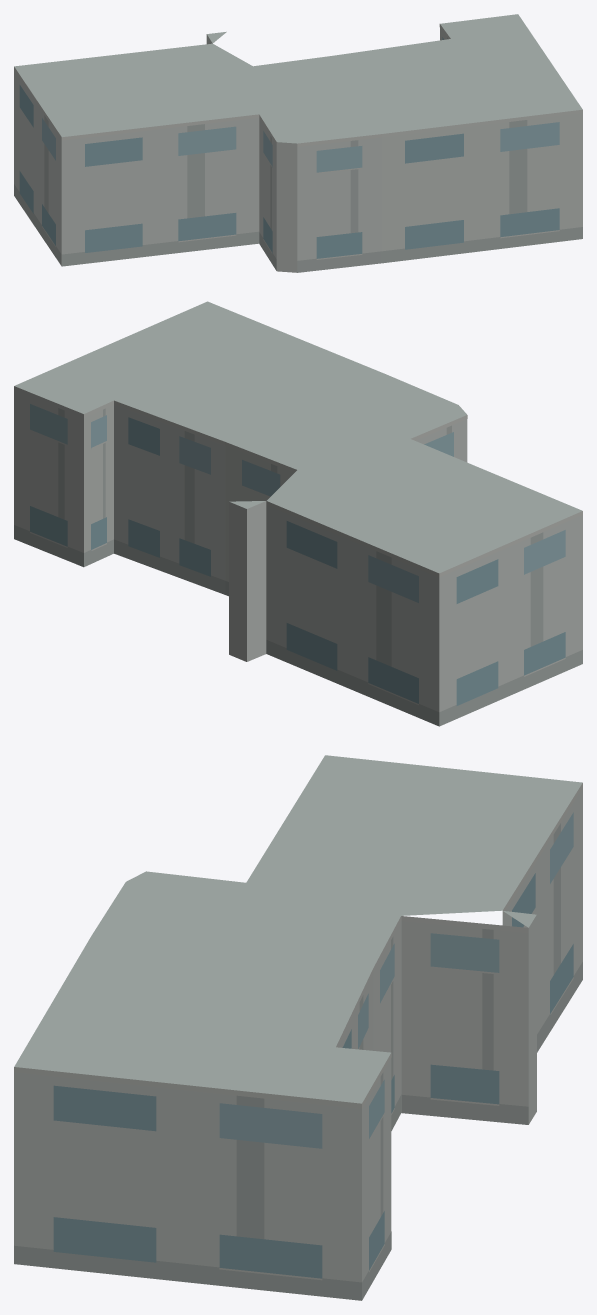
File: survey-upis-32527870.glb
The picture shows the model from 3 angles, top to bottom: view 1: azimuth 30°, elevation 25°; view 2: azimuth 150°, elevation 25°; view 3: azimuth 270°, elevation 25°; orthographic projection. The views are drawn at different scales.
Parts seen in each view (by area): view 1: survey-upis-32527870.tmp; view 2: survey-upis-32527870.tmp; view 3: survey-upis-32527870.tmp.
Part boxes in pixels (x1,y1,x2,y2): survey-upis-32527870.tmp: (14,14,582,272); survey-upis-32527870.tmp: (14,301,582,726); survey-upis-32527870.tmp: (14,755,582,1300).
Bounding box in the file's own units: 34.7 × 9.15 × 23.93.
